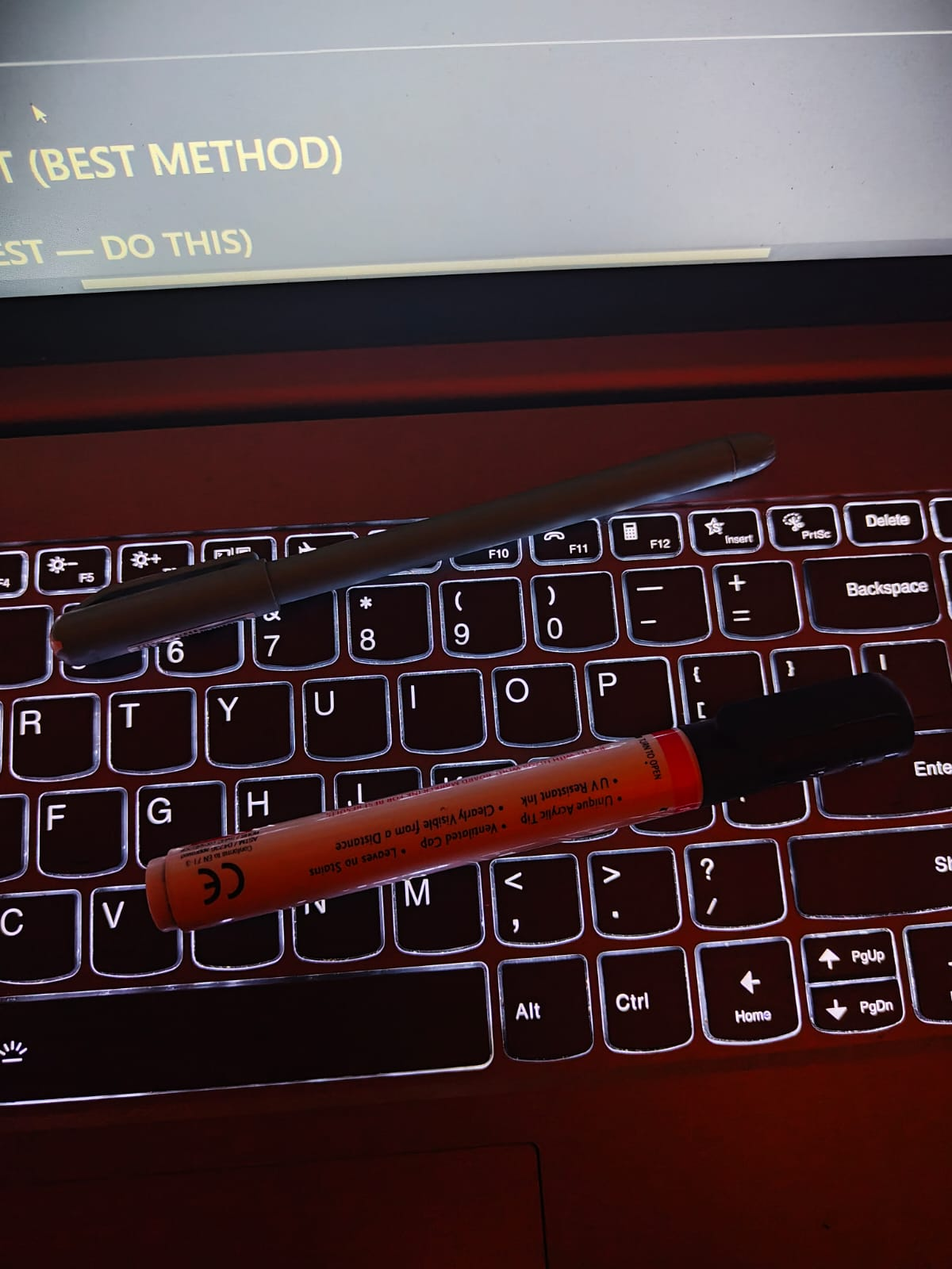case: (149, 662, 890, 951)
pen: (37, 425, 785, 672)
